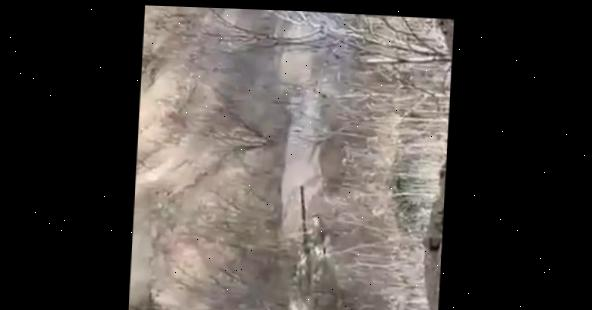tank: (286, 183, 332, 310)
